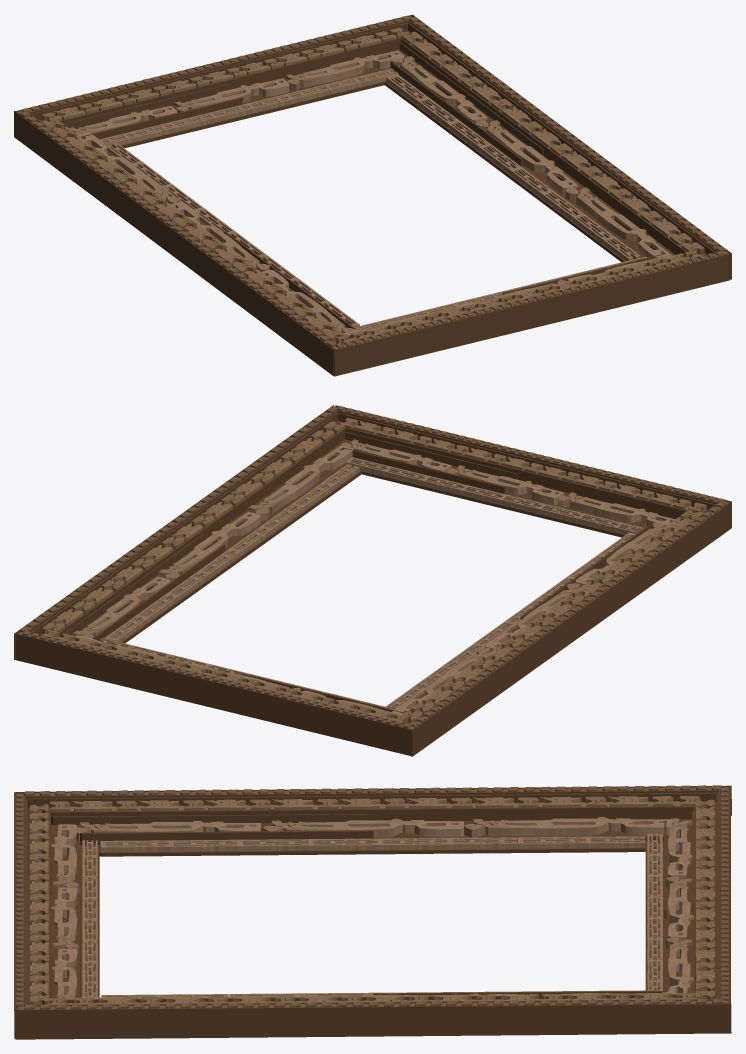
File: Frame.fbx
3 renders of one model, top to bottom at view 1: azimuth 30°, elevation 25°; view 2: azimuth 150°, elevation 25°; view 3: azimuth 270°, elevation 25°, orthographic. The views are drawn at different scales.
Visible parts, largest first — view 1: mona_lisa.026, mona_lisa.000, mona_lisa.001, mona_lisa.002; view 2: mona_lisa.026, mona_lisa.002, mona_lisa.001, mona_lisa.000; view 3: mona_lisa.001, mona_lisa.026, mona_lisa.002, mona_lisa.000.
Part boxes in pixels (x1,y1,x2,y2): mona_lisa.026: (384,14,731,279); mona_lisa.000: (16,15,411,148); mona_lisa.001: (14,111,359,375); mona_lisa.002: (332,250,730,376); mona_lisa.026: (14,405,361,659); mona_lisa.002: (335,405,731,537); mona_lisa.001: (386,502,731,756); mona_lisa.000: (16,629,411,755); mona_lisa.001: (15,785,731,856); mona_lisa.026: (15,990,731,1039); mona_lisa.002: (14,792,99,1038); mona_lisa.000: (645,786,730,1003).
Size of the model in its own units: 135 by 11.11 by 188.
1 material, 1 textured.
